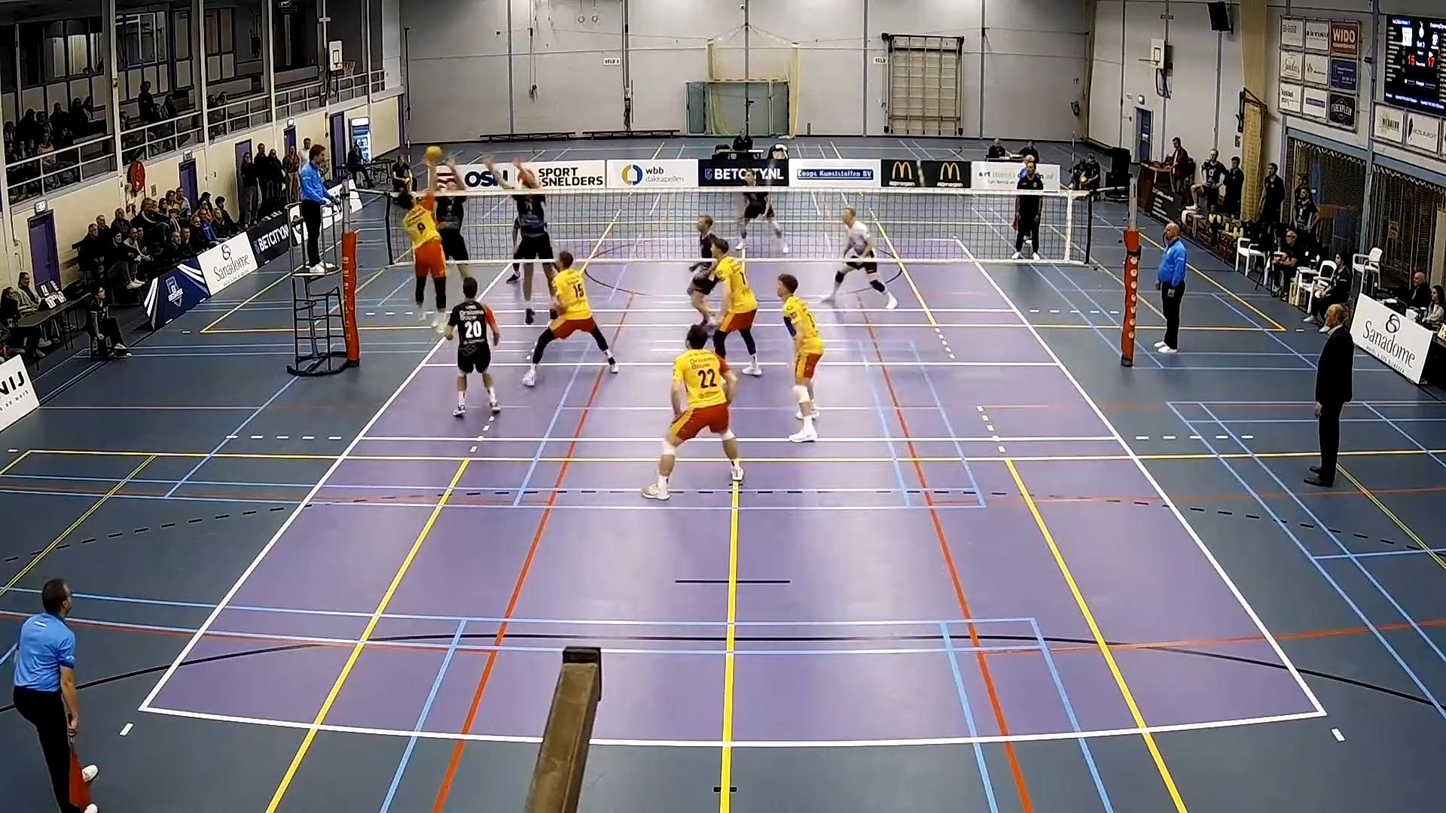attacco: (382, 167, 454, 330)
muro: (487, 147, 559, 322), (415, 151, 471, 293)
